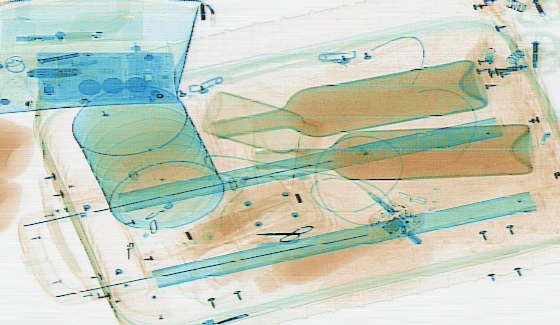scissors: (255, 223, 315, 243)
